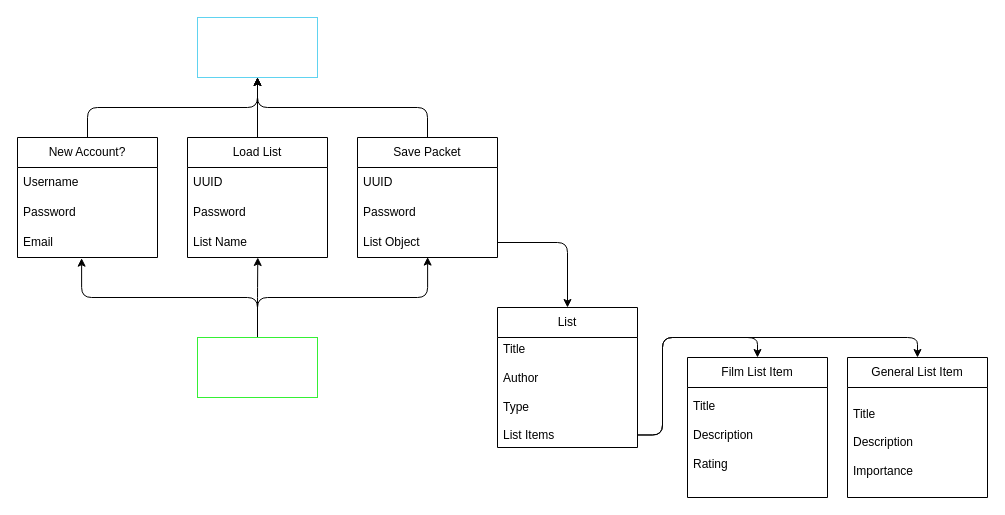
The diagram is 1005 pixels wide and 515 high, and some of its shapes have lost their labels. Each missing label, with the centre of its shape:
"aClient" belongs at (x=257, y=367).
"Server" belongs at (x=257, y=47).
